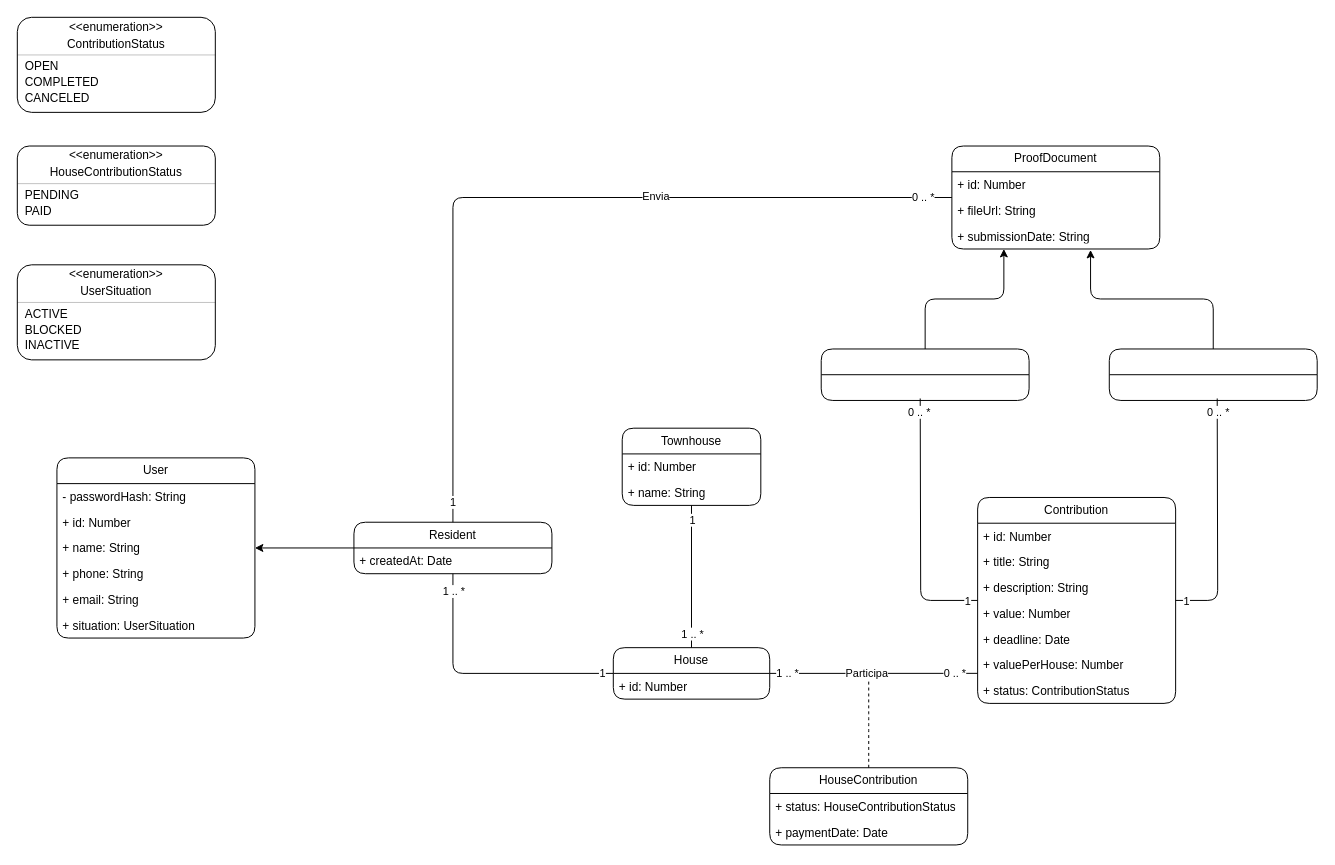
Image size: 1335x865. Some labels were removed from this diagram. Here are the shapes that lost their labels. From the top down, the centre of each, then its label:
At [924,374]: "AccountabilityProof".
At [1212,374]: "PaymentProof".
